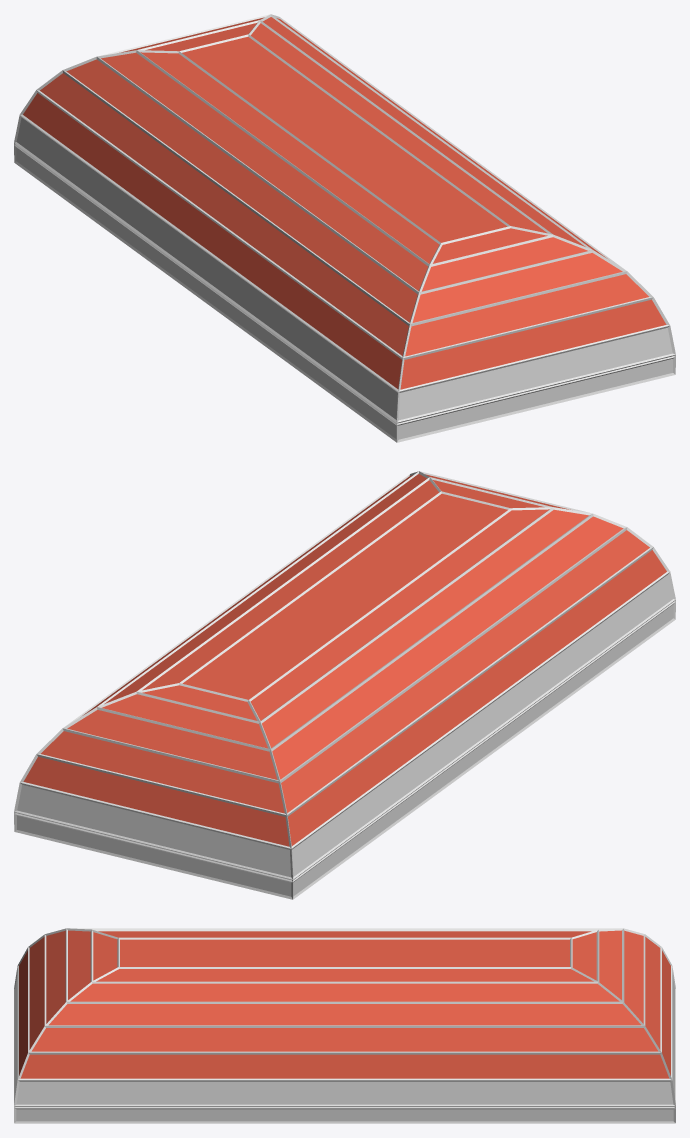
Rendered from RedLamp.fbx.
3 renders of one model, top to bottom at view 1: azimuth 30°, elevation 25°; view 2: azimuth 150°, elevation 25°; view 3: azimuth 270°, elevation 25°, orthographic. The views are drawn at different scales.
Parts seen in each view (by area): view 1: Cube.007, Cube.008; view 2: Cube.007, Cube.008; view 3: Cube.007, Cube.008.
Boxes of the visible parts, x1,y1,x2,y2 form: Cube.007: (16, 17, 672, 439); Cube.008: (14, 14, 675, 442); Cube.007: (17, 474, 673, 896); Cube.008: (14, 471, 675, 899); Cube.007: (15, 930, 674, 1121); Cube.008: (14, 928, 675, 1123).
Size of the model in its own units: 201 by 89.8 by 479.
